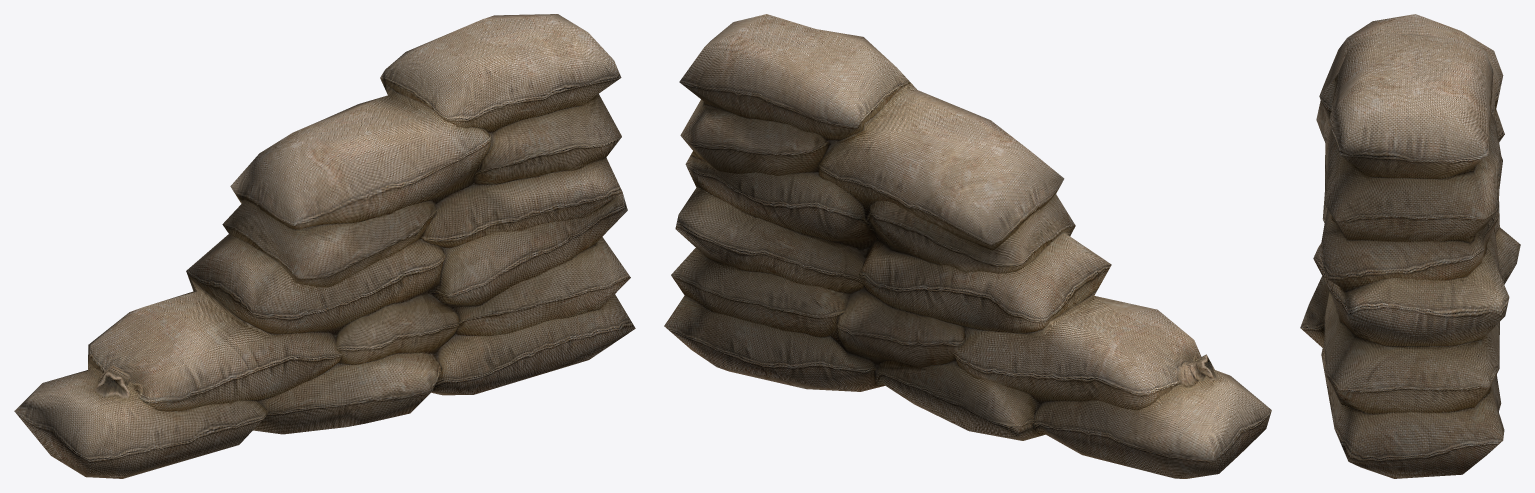
File: Sandbags_1A.fbx
3 views of the same model, side by side, from view 1: azimuth 30°, elevation 25°; view 2: azimuth 150°, elevation 25°; view 3: azimuth 270°, elevation 25° (orthographic). The views are drawn at different scales.
Parts seen in each view (by area): view 1: polySurface223; view 2: polySurface223; view 3: polySurface223.
Part boxes in pixels (x1,y1,x2,y2): polySurface223: [14, 14, 635, 478]; polySurface223: [664, 14, 1271, 478]; polySurface223: [1300, 14, 1520, 478].
Bounding box in the file's own units: 2.05 × 1.17 × 0.6082.
